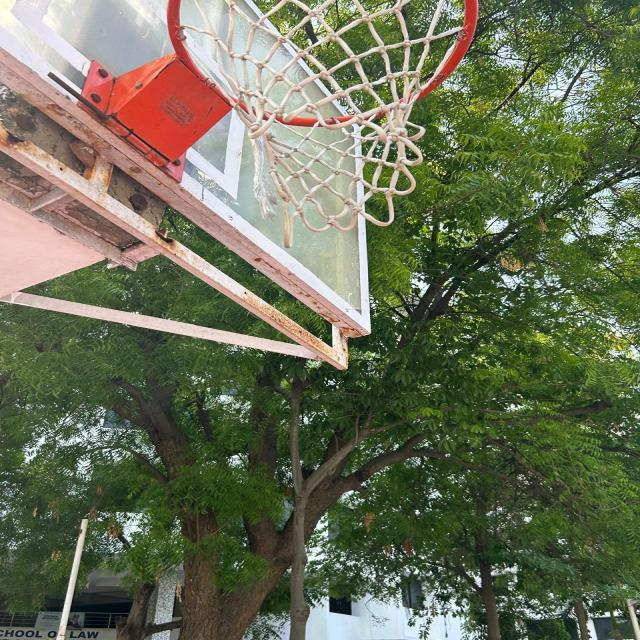hoop: (79, 0, 528, 258)
